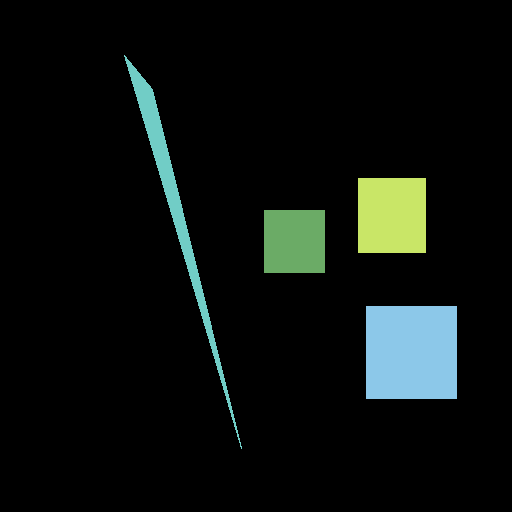square: (366, 306, 456, 398), (358, 178, 425, 252), (264, 210, 324, 272)
